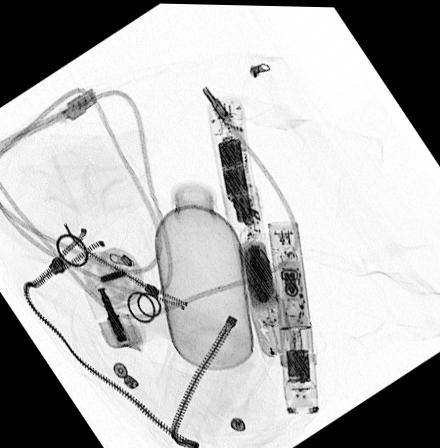Baton: (205, 98, 298, 368), (266, 216, 319, 414)
